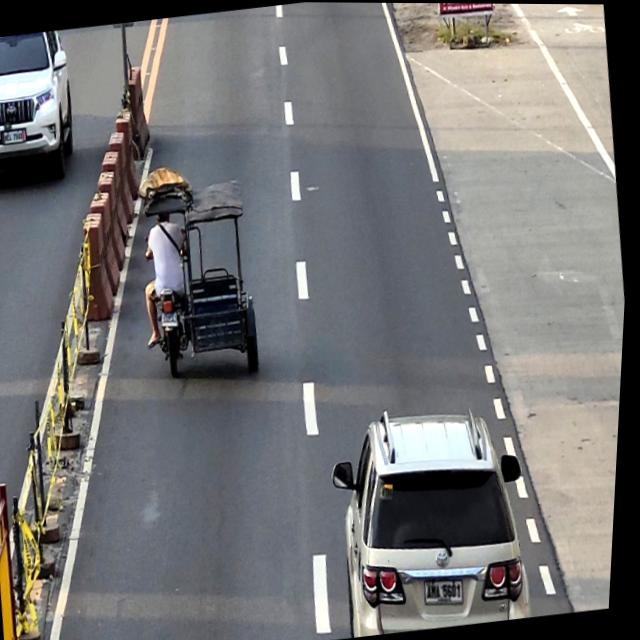Car: (324, 395, 548, 638), (0, 28, 85, 192)
License-Plate: (430, 576, 471, 605), (4, 129, 26, 143), (163, 310, 181, 327)
Tricycle: (132, 177, 272, 384)
